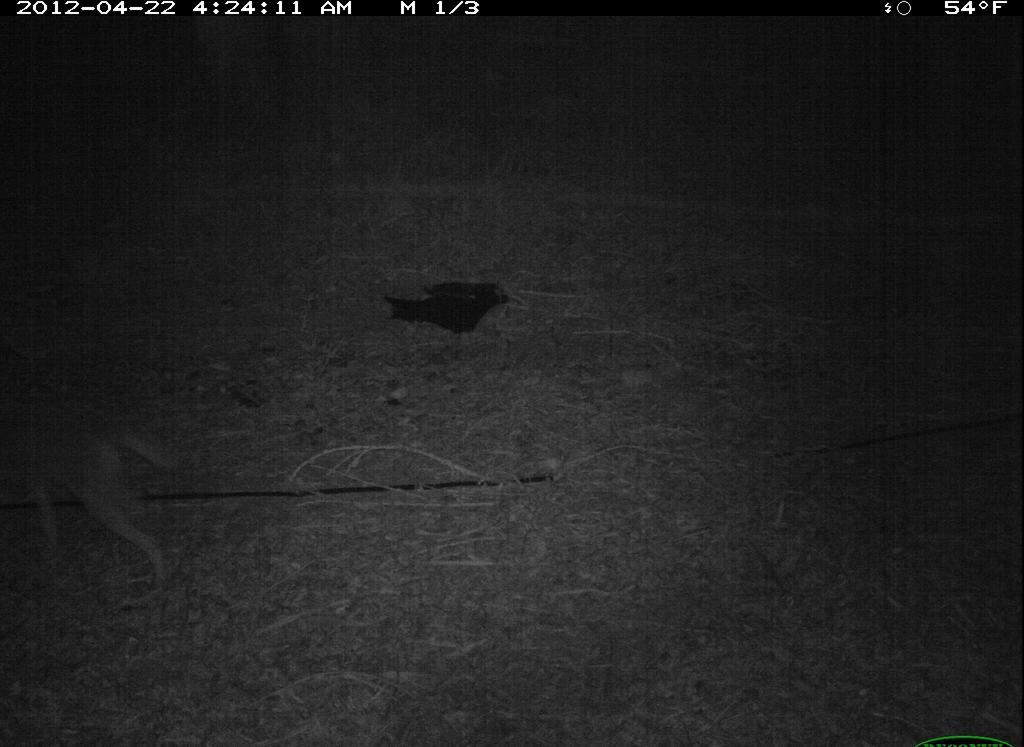coyote: (8, 420, 195, 602)
